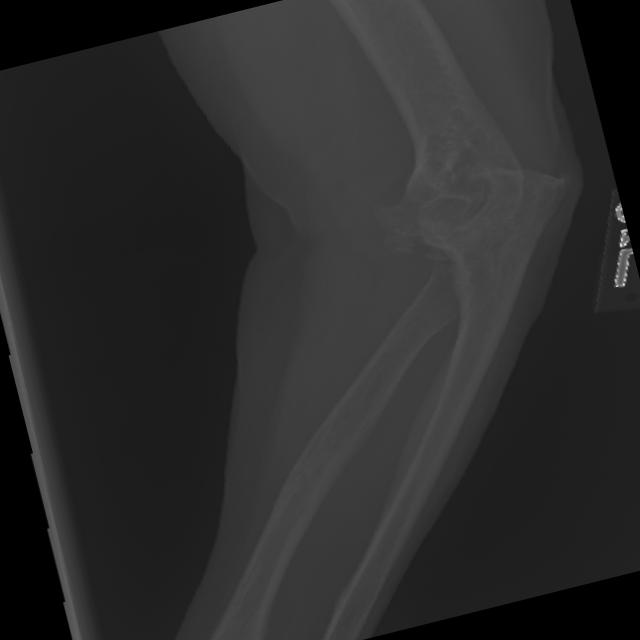elbow positive: (466, 145, 586, 219)
